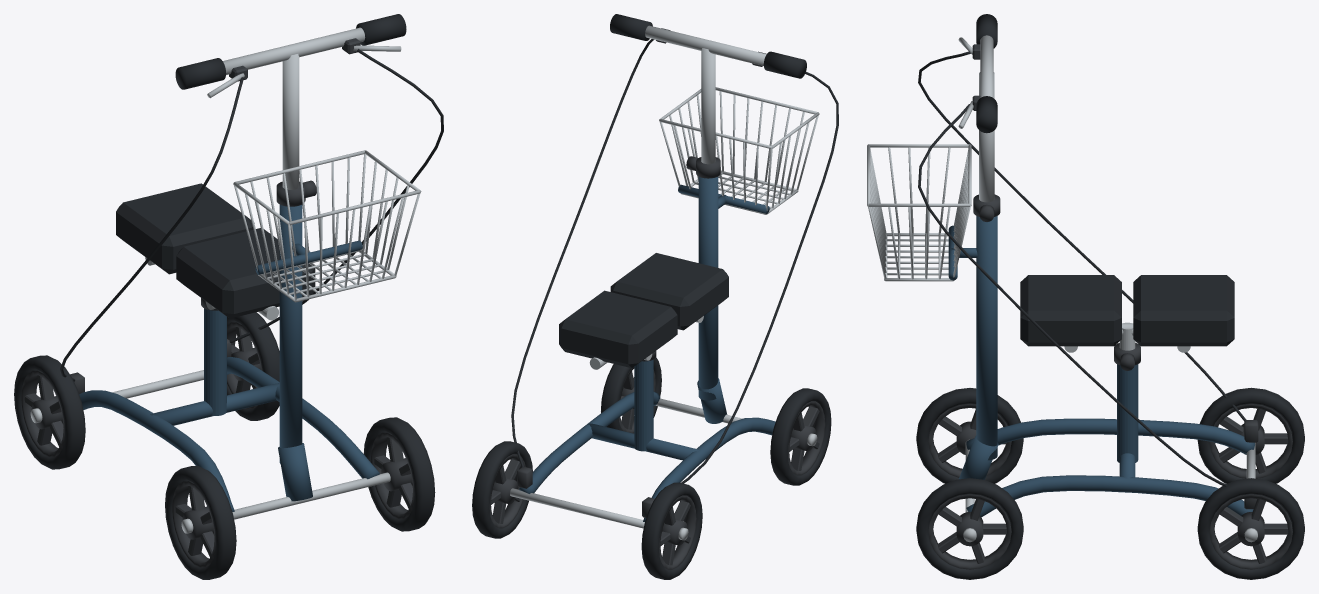
File: full.glb
3 views of the same model, side by side, from view 1: azimuth 30°, elevation 25°; view 2: azimuth 150°, elevation 25°; view 3: azimuth 270°, elevation 25° (orthographic). The views are drawn at different scales.
Parts seen in each view (by area): view 1: Rear thick rounded knee pad, Front thick rounded knee pad, Outer steering column, Front Left tire, Rear Left tire, Front Right tire, Left curved chassis rail, Right curved chassis rail, Outer pad support column, Telescopic steering stem, Rear Right tire, T handlebar (+17 smaller); view 2: Rear thick rounded knee pad, Front thick rounded knee pad, Outer steering column, Front Left tire, Rear Left tire, Rear Right tire, Right curved chassis rail, Left curved chassis rail, Outer pad support column, Telescopic steering stem, T handlebar, Left continuous brake cable (+12 smaller); view 3: Rear thick rounded knee pad, Front thick rounded knee pad, Outer steering column, Front Right tire, Rear Right tire, Left curved chassis rail, Right curved chassis rail, Rear Left tire, Front Left tire, Outer pad support column, Right continuous brake cable, Front Right wheel rim (+10 smaller).
Boxes of the visible parts, box(x1,y1,x2,y2) form: Rear thick rounded knee pad: box(116, 183, 254, 274); Front thick rounded knee pad: box(176, 228, 315, 318); Outer steering column: box(279, 204, 302, 463); Front Left tire: box(165, 466, 236, 579); Rear Left tire: box(14, 355, 85, 469); Front Right tire: box(363, 417, 435, 531); Left curved chassis rail: box(79, 390, 234, 511); Right curved chassis rail: box(227, 357, 379, 479); Outer pad support column: box(204, 308, 226, 415); Telescopic steering stem: box(282, 54, 299, 189); Rear Right tire: box(227, 312, 279, 420); T handlebar: box(223, 27, 365, 74); Rear thick rounded knee pad: box(559, 290, 677, 368); Front thick rounded knee pad: box(610, 253, 728, 330); Outer steering column: box(698, 176, 718, 400); Front Left tire: box(770, 388, 831, 485); Rear Left tire: box(641, 482, 702, 579); Rear Right tire: box(472, 441, 532, 538); Right curved chassis rail: box(519, 391, 660, 493); Left curved chassis rail: box(643, 417, 775, 521); Outer pad support column: box(634, 359, 653, 451); Telescopic steering stem: box(701, 48, 715, 164); T handlebar: box(645, 25, 766, 65); Left continuous brake cable: box(681, 71, 838, 483); Rear thick rounded knee pad: box(1133, 275, 1234, 346); Front thick rounded knee pad: box(1020, 275, 1121, 346); Outer steering column: box(976, 216, 997, 460); Front Right tire: box(916, 478, 1023, 579); Rear Right tire: box(1197, 478, 1304, 579); Left curved chassis rail: box(966, 418, 1254, 454); Right curved chassis rail: box(966, 475, 1253, 517); Rear Left tire: box(1197, 387, 1304, 483); Front Left tire: box(916, 388, 1023, 483); Outer pad support column: box(1117, 364, 1138, 462); Right continuous brake cable: box(918, 104, 1227, 486); Front Right wheel rim: box(928, 494, 1011, 569).
Bounding box in the file's own units: 0.489 × 0.919 × 0.7783.
